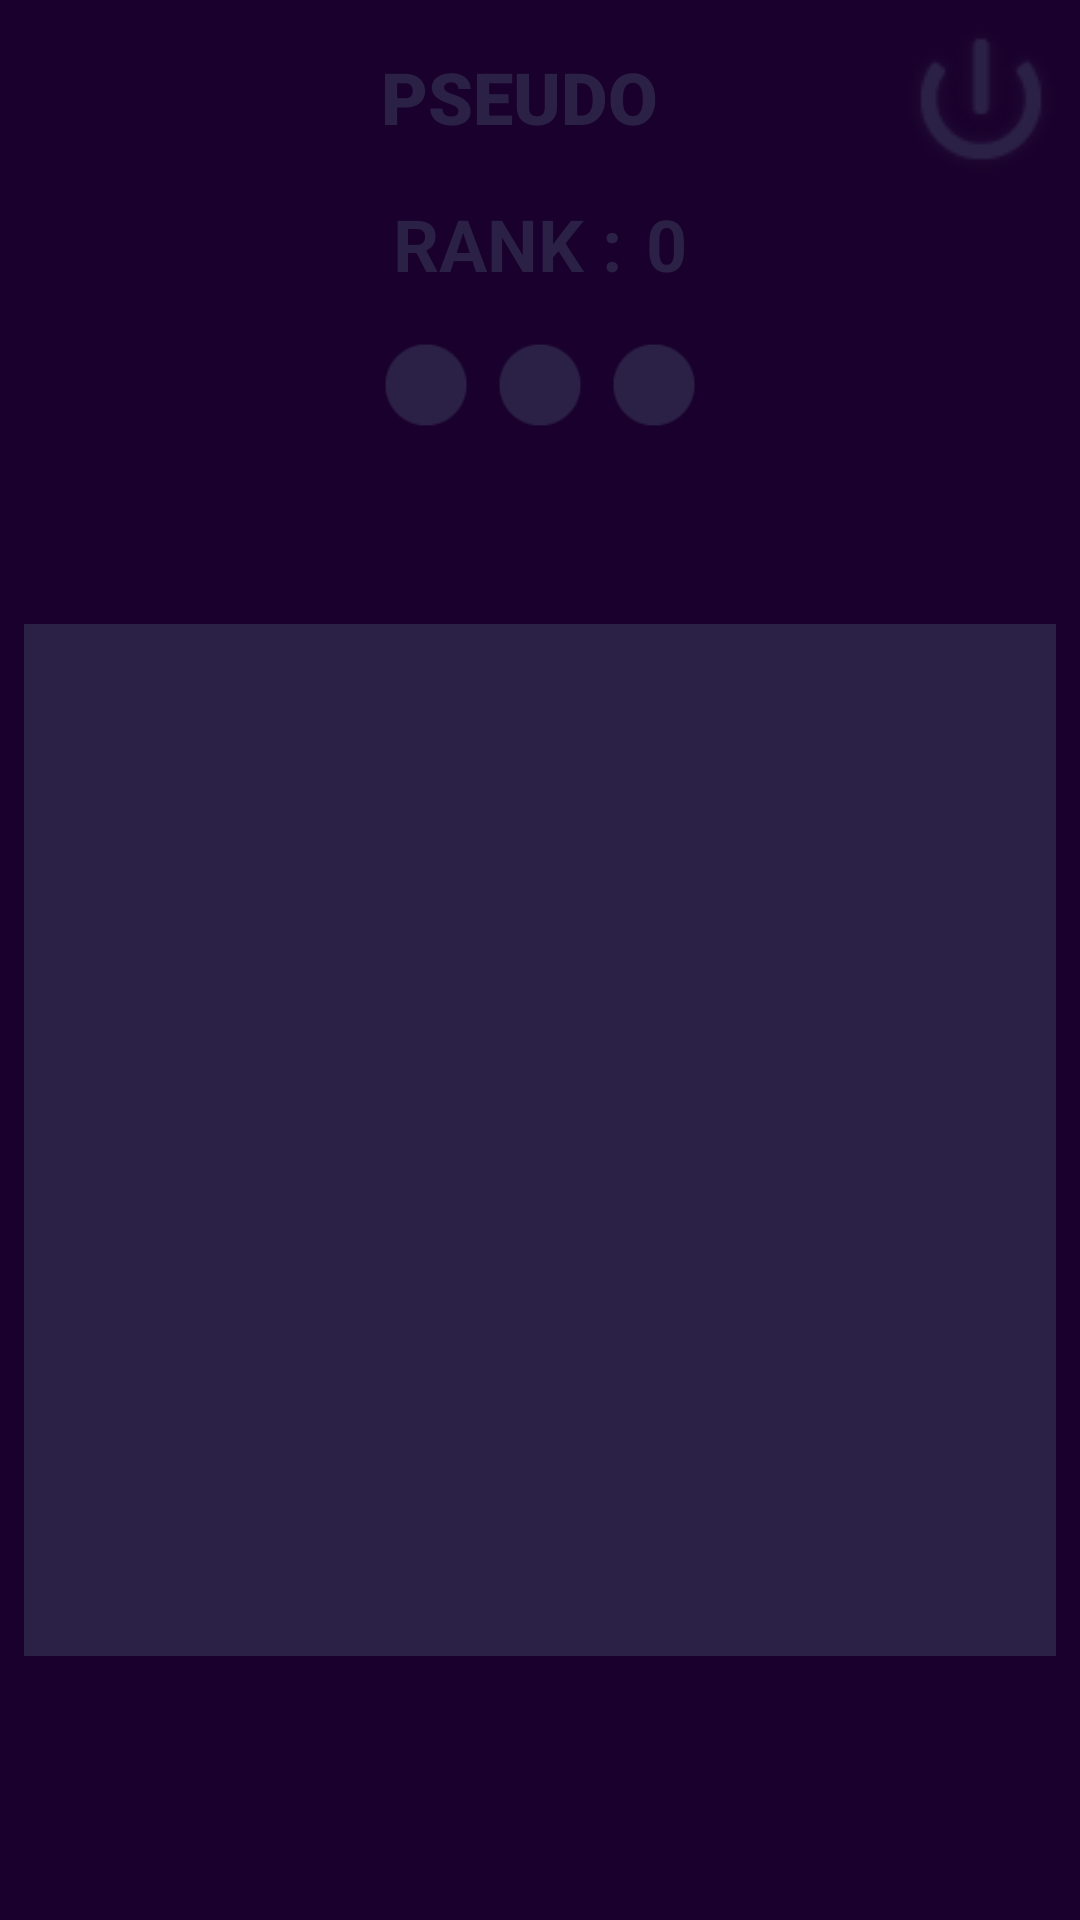

Where to tap for icons on this 1080×1920 app screen, as point (x, y):
Disconnect button image: point (981, 99)
